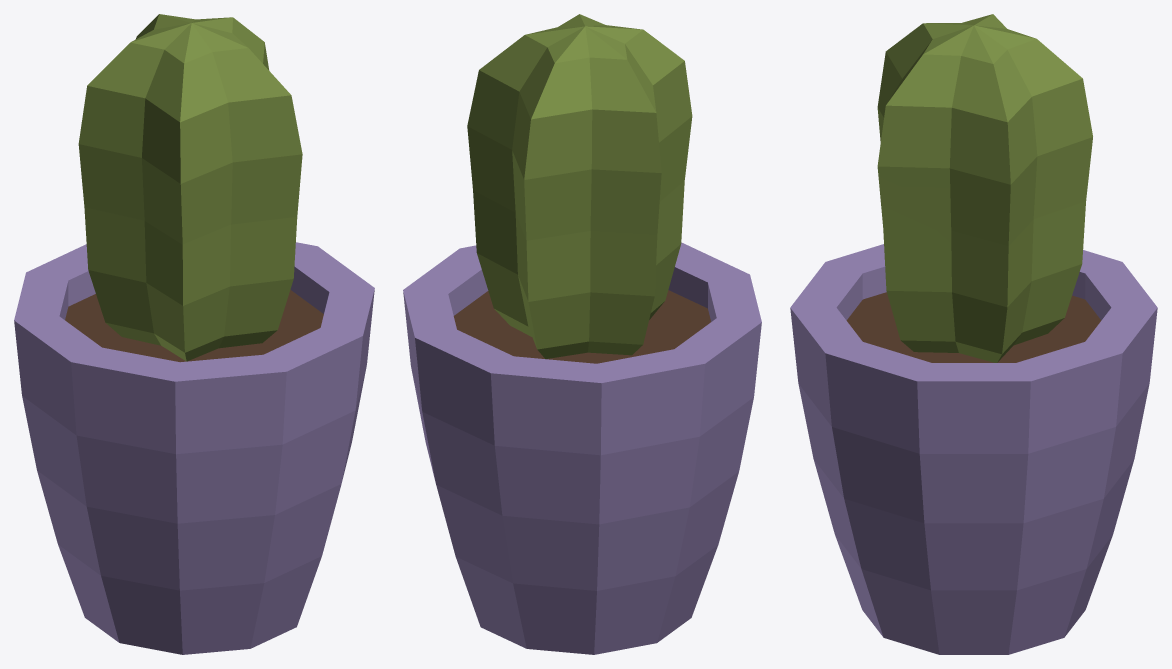
The model's file is Plant_02.fbx.
3 views of the same model, side by side, from view 1: azimuth 30°, elevation 25°; view 2: azimuth 150°, elevation 25°; view 3: azimuth 270°, elevation 25° (orthographic).
Visible parts, largest first — view 1: Plant_02; view 2: Plant_02; view 3: Plant_02.
Boxes of the visible parts, <box> form: Plant_02: <box>14,14,374,654</box>; Plant_02: <box>403,14,761,654</box>; Plant_02: <box>790,14,1157,654</box>.
Size of the model in its own units: 15.35 by 28.27 by 16.14.
